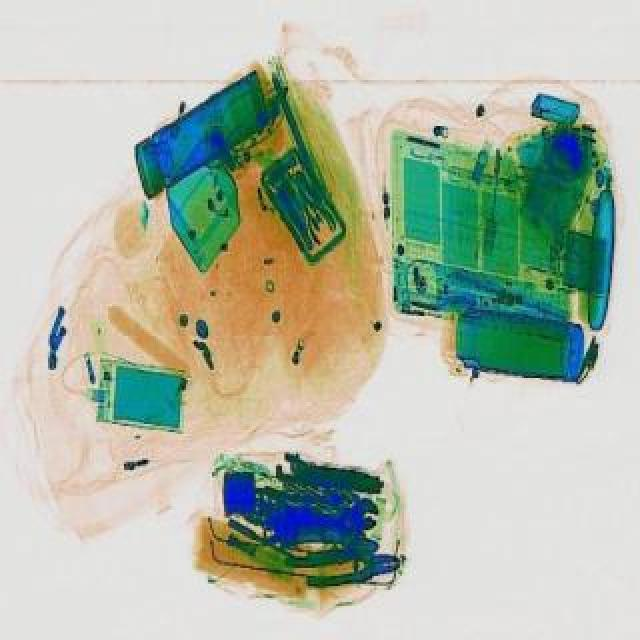scissors: (314, 492, 378, 532)
wrench: (282, 540, 400, 588), (284, 180, 344, 244)
